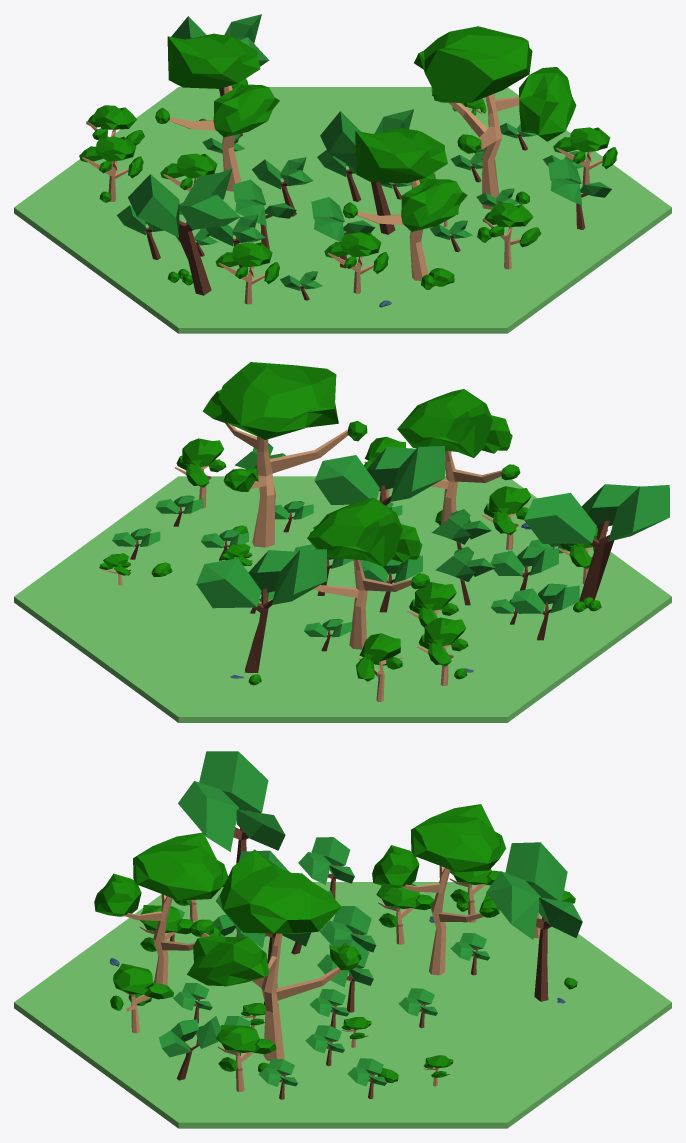
File: Hexagone ressource bois.fbx
3 views of the same model, one above another, from view 1: azimuth 30°, elevation 25°; view 2: azimuth 150°, elevation 25°; view 3: azimuth 270°, elevation 25° (orthographic).
Parts seen in each view (by area): view 1: Cube.019; view 2: Cube.019; view 3: Cube.019.
Part boxes in pixels (<box>): Cube.019: <box>14,14,671,333</box>; Cube.019: <box>14,362,671,722</box>; Cube.019: <box>14,751,671,1128</box>.
Bounding box in the file's own units: 18.01 × 20 × 6.16.
